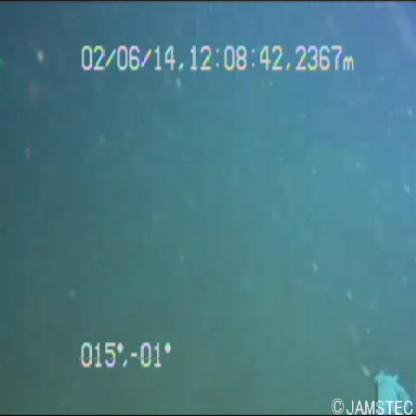Rác: (368, 355, 412, 415)
